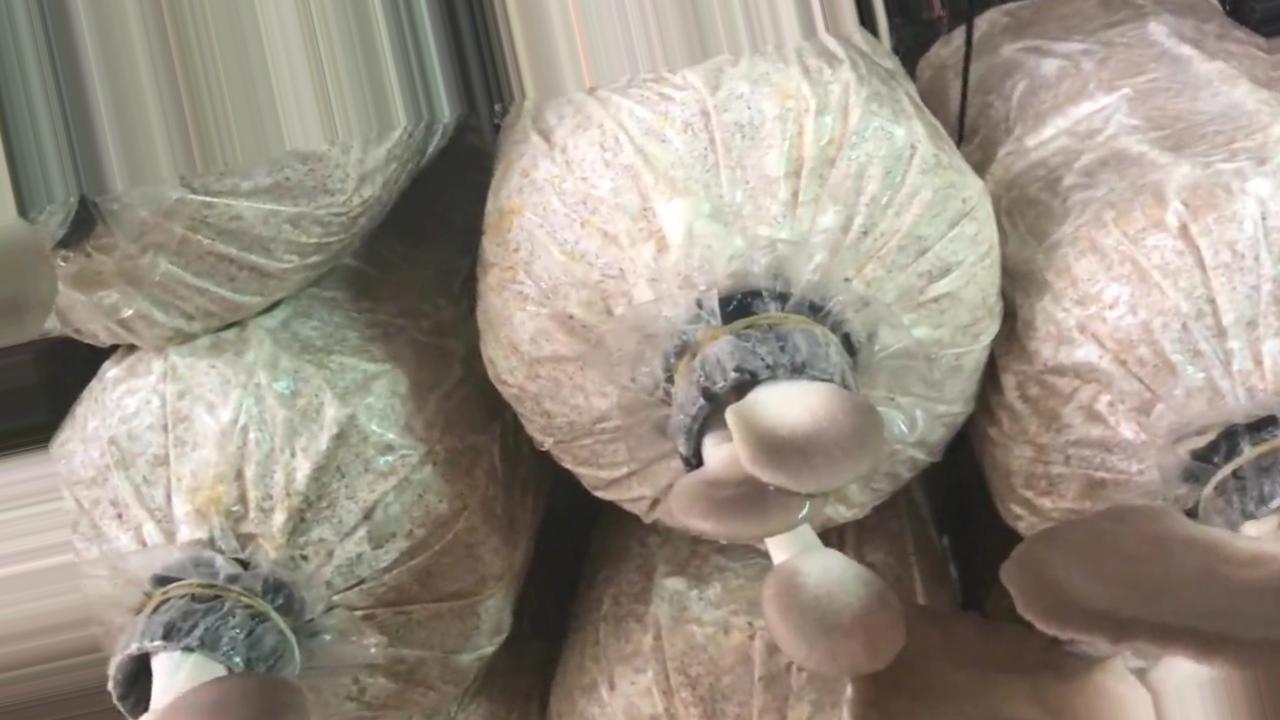nam: (849, 442, 1280, 718), (663, 323, 905, 675), (106, 580, 309, 720)
